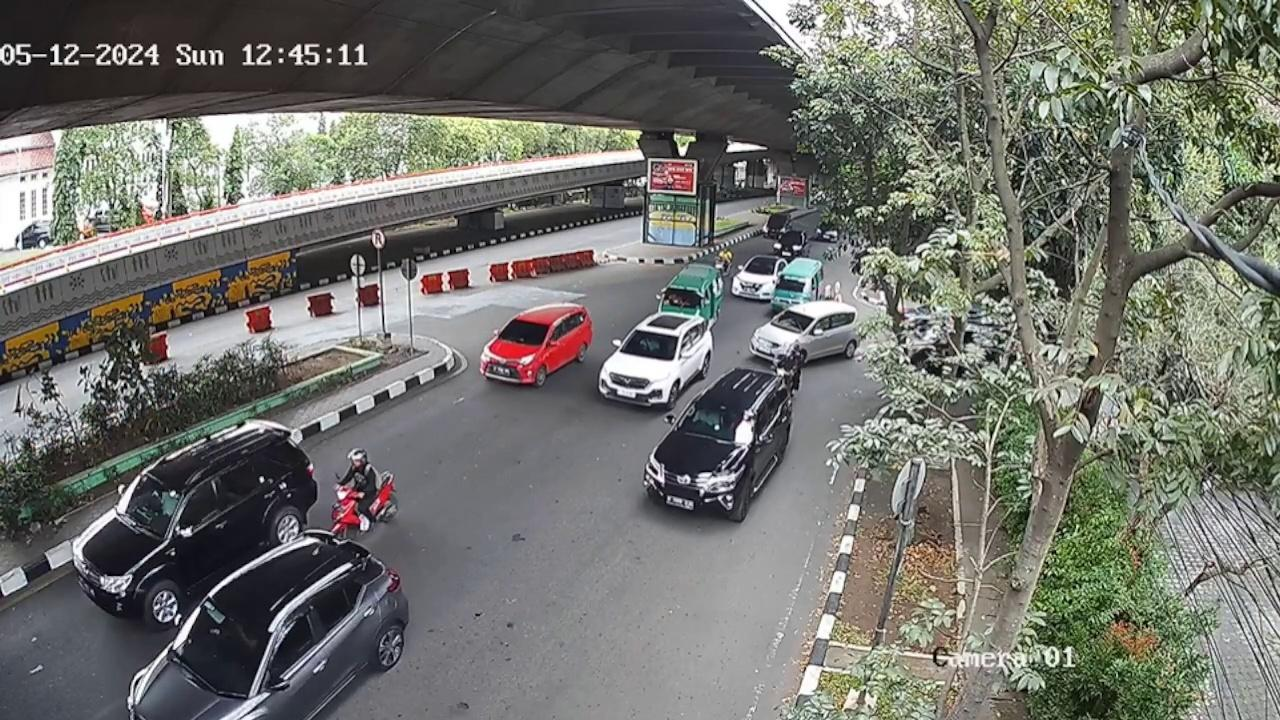pakai: (638, 333, 659, 355)
tidak-pakai: (691, 406, 726, 433)
windshield: (174, 599, 274, 688), (119, 470, 183, 537), (679, 399, 757, 444), (622, 326, 676, 364), (500, 313, 550, 346)
